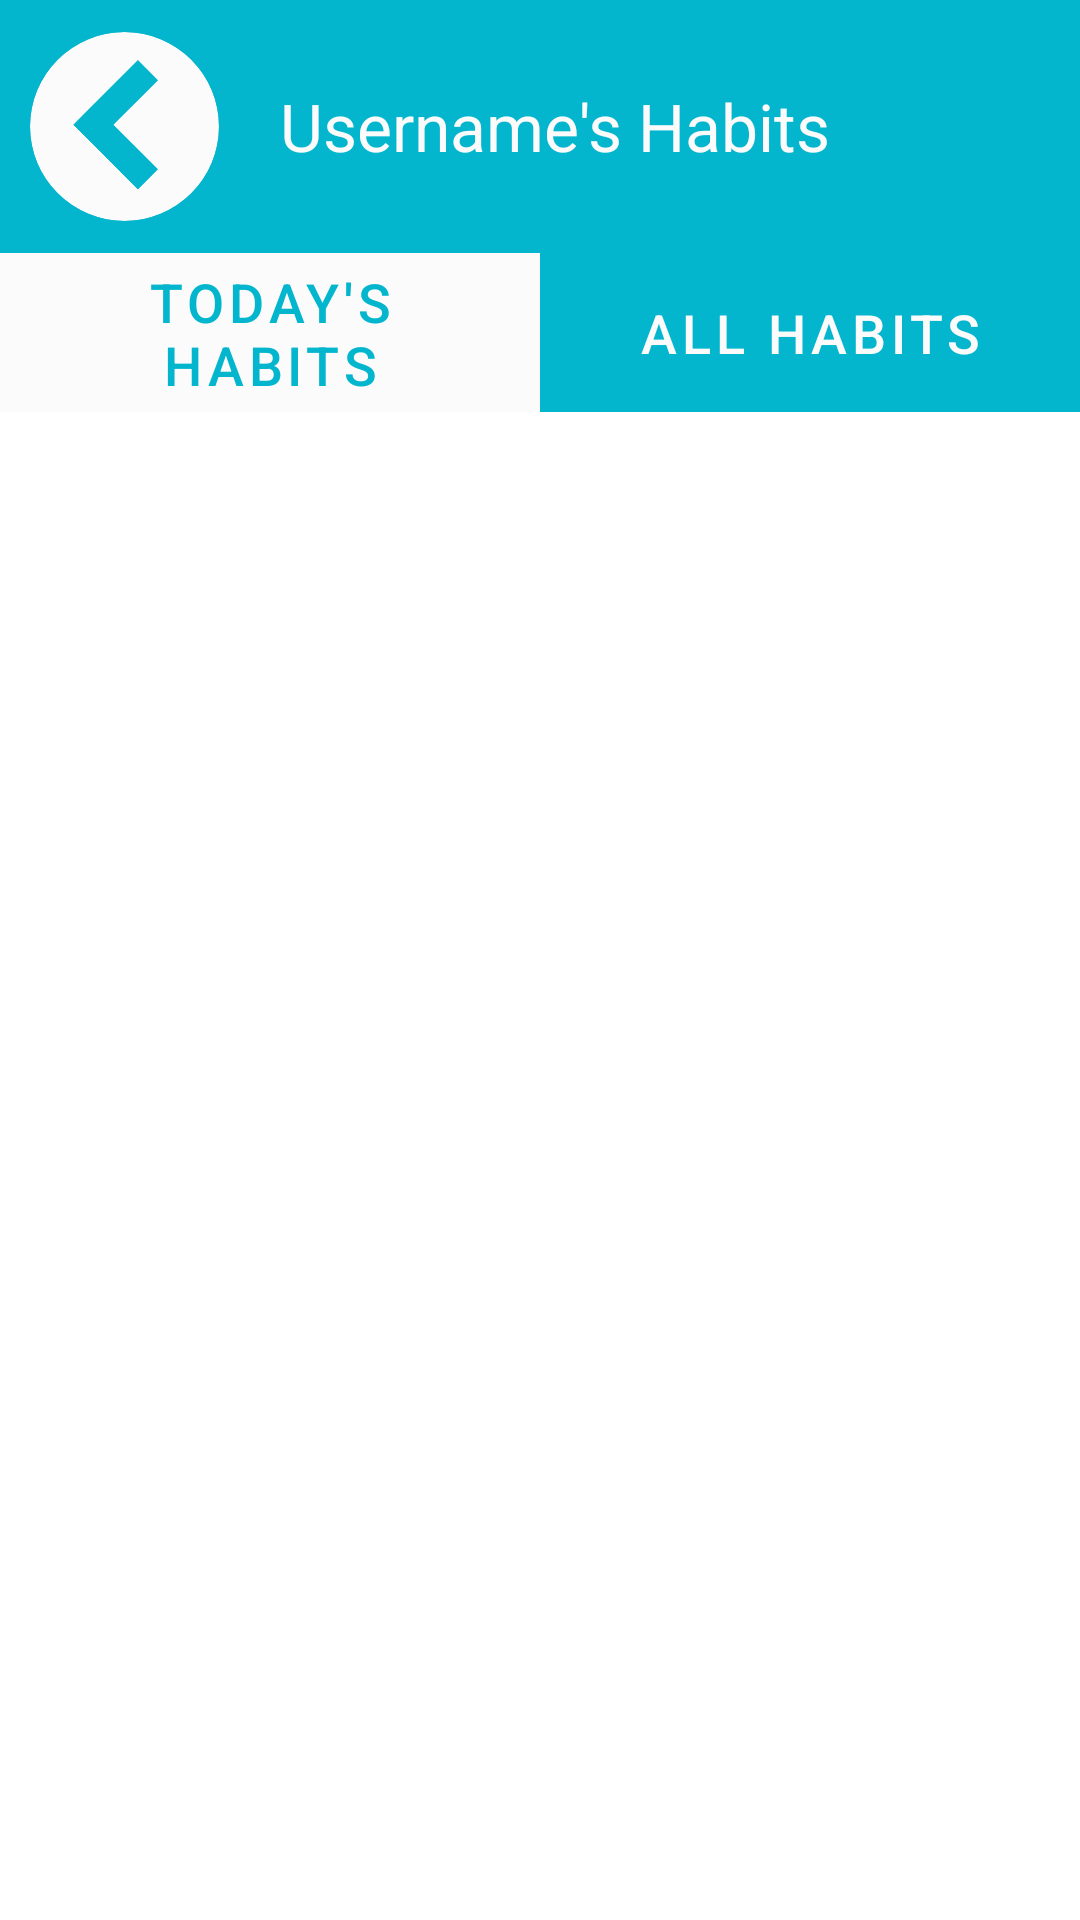

Icons on this 1080px×1920px Android screen, each with the point to tap as (x=x, y=y):
backbutton: (x=124, y=126)
